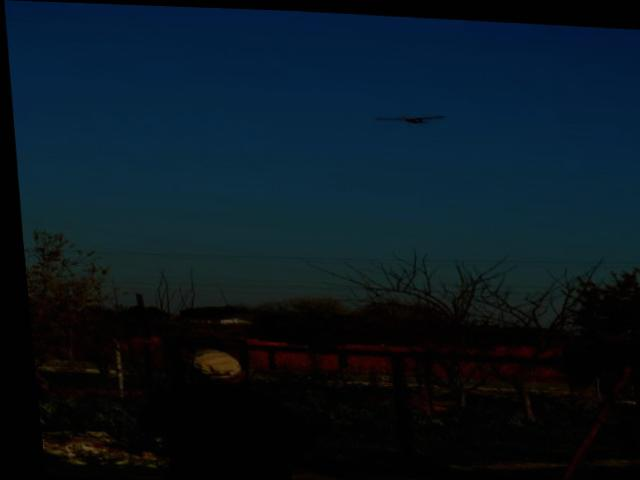iha: (373, 110, 442, 121)
